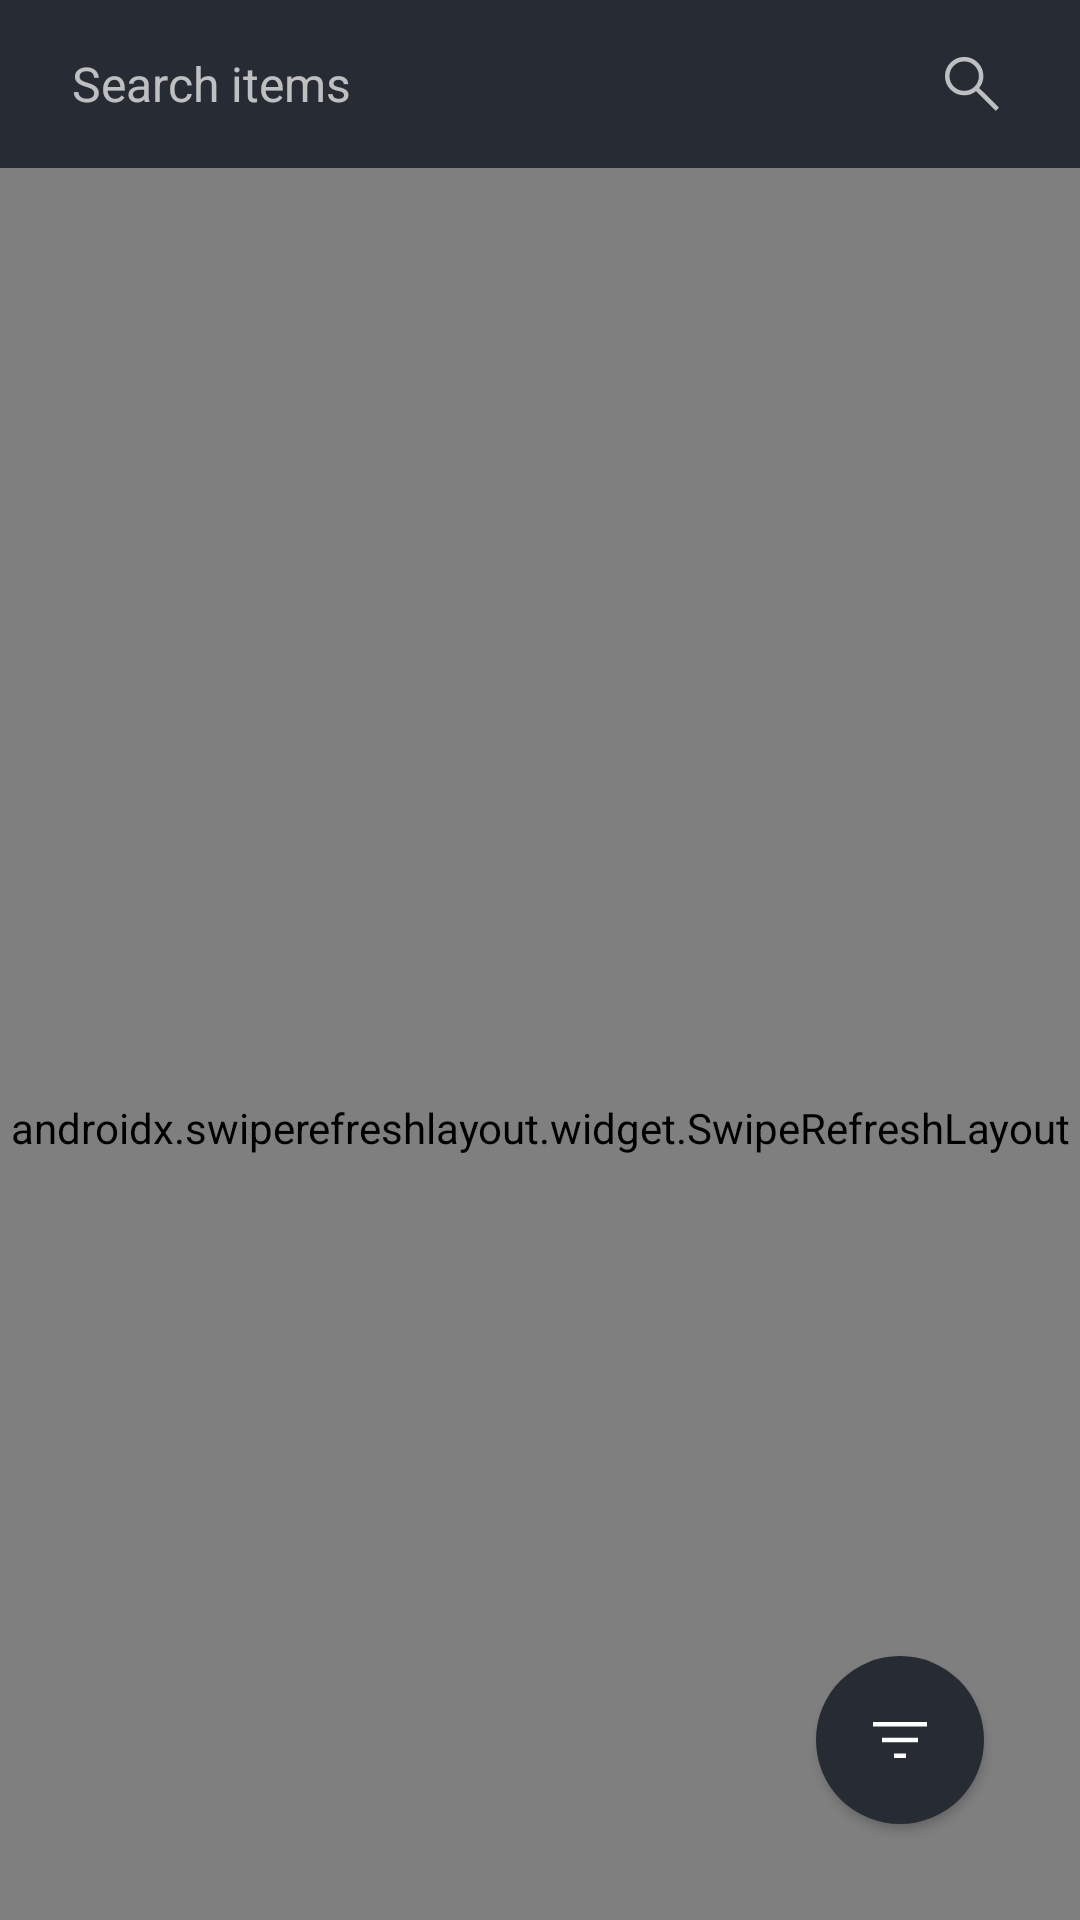

Locate icon controls on the screen. Image size 1080x1920, boxes as box=[x1, y1, x2, y2].
search: box=[945, 57, 999, 111]
